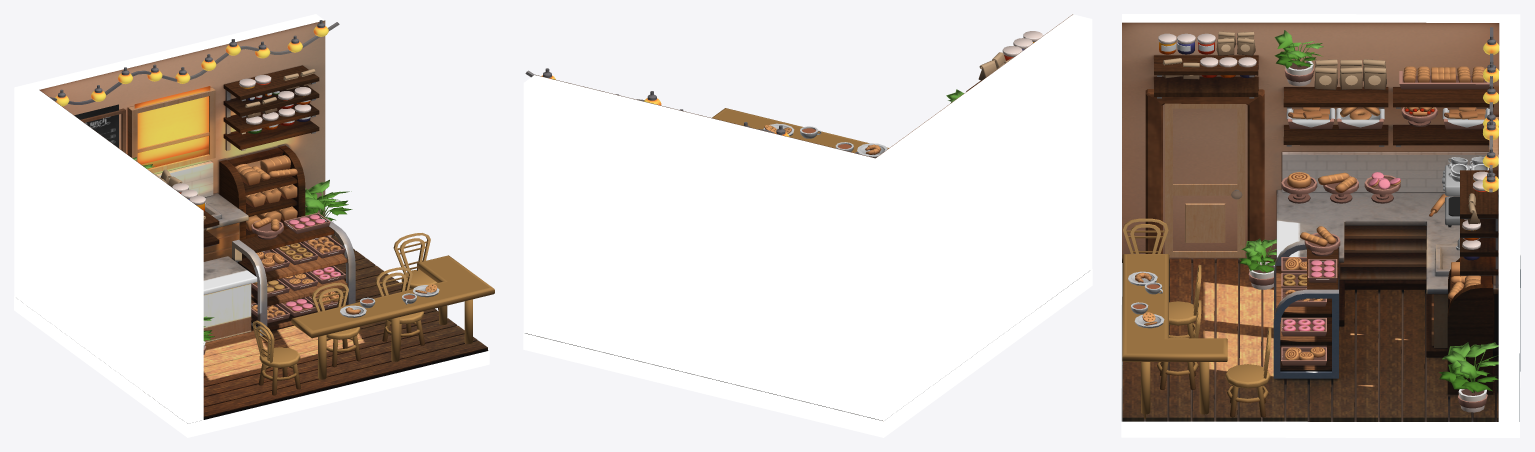
The model's file is free_isometric_cafe4.glb.
3 renders of one model, left to right at view 1: azimuth 30°, elevation 25°; view 2: azimuth 150°, elevation 25°; view 3: azimuth 270°, elevation 25°, orthographic. The views are drawn at different scales.
Parts seen in each view (by area): view 1: Isometric_cafe_202, Cube.062_42, Cylinder.067_31, Cylinder.066_30, Cylinder.068_32, Cylinder.069_33, Cylinder.070_34, Cylinder.020_68, Plane.016_194; view 2: Isometric_cafe_202, Cube.062_42; view 3: Isometric_cafe_202, Cube.002_10, Cube.003_9, Cube.062_42, Cylinder.020_68, Cylinder.070_34, Cylinder.018_67, Cylinder.017_66, Cylinder.066_30, Cylinder.068_32, Cylinder.067_31, Cube_8 (+13 smaller).
Boxes of the visible parts, x1,y1,x2,y2 form: Isometric_cafe_202: [14, 14, 489, 437]; Cube.062_42: [291, 255, 494, 338]; Cylinder.067_31: [252, 320, 300, 395]; Cylinder.066_30: [318, 299, 472, 379]; Cylinder.068_32: [311, 282, 361, 367]; Cylinder.069_33: [375, 267, 424, 350]; Cylinder.070_34: [393, 233, 438, 310]; Cylinder.020_68: [305, 179, 352, 237]; Plane.016_194: [49, 22, 339, 104]; Isometric_cafe_202: [523, 14, 1092, 437]; Cube.062_42: [712, 108, 888, 152]; Isometric_cafe_202: [1121, 14, 1520, 437]; Cube.002_10: [1145, 89, 1264, 262]; Cube.003_9: [1165, 103, 1245, 257]; Cube.062_42: [1122, 254, 1227, 361]; Cylinder.020_68: [1439, 342, 1498, 412]; Cylinder.070_34: [1225, 327, 1271, 417]; Cylinder.018_67: [1274, 30, 1323, 86]; Cylinder.017_66: [1239, 238, 1276, 289]; Cylinder.066_30: [1141, 362, 1209, 418]; Cylinder.068_32: [1169, 265, 1201, 338]; Cylinder.067_31: [1122, 218, 1168, 253]; Cube_8: [1442, 165, 1472, 227].
Bounding box in the file's own units: 78.6 × 54.62 × 75.13.
Materials: 8 (6 with a texture image).
